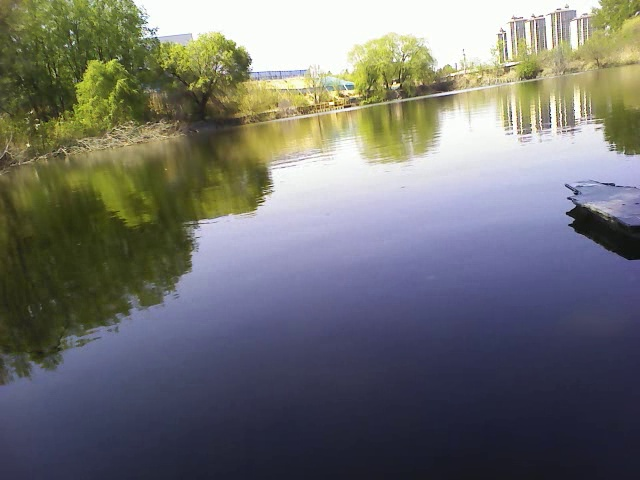aircraft_carrier: (564, 170, 639, 237)
